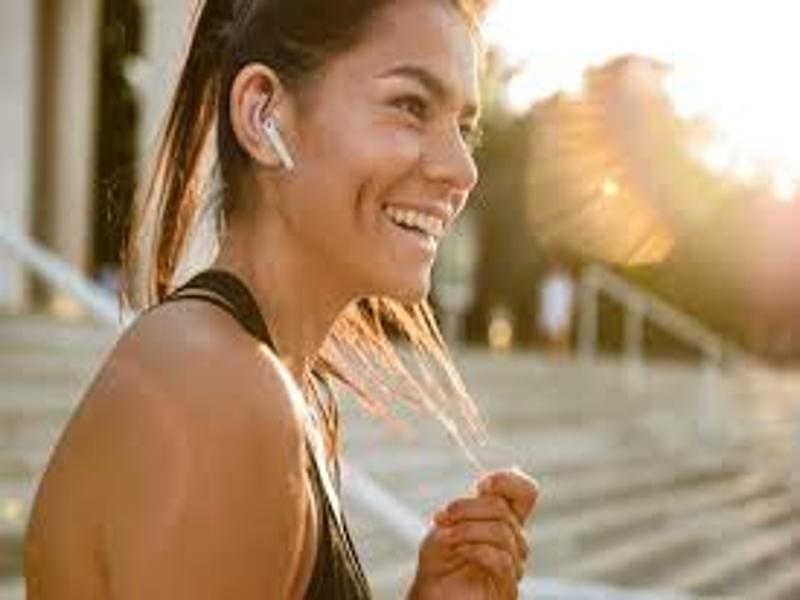headphone: (262, 112, 295, 169)
